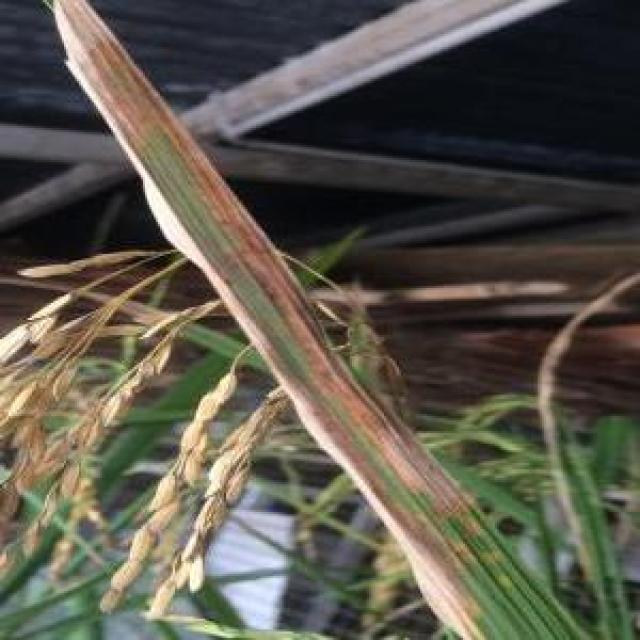Bacterial_Blight: (45, 0, 407, 431), (288, 388, 480, 640), (354, 384, 474, 511)
